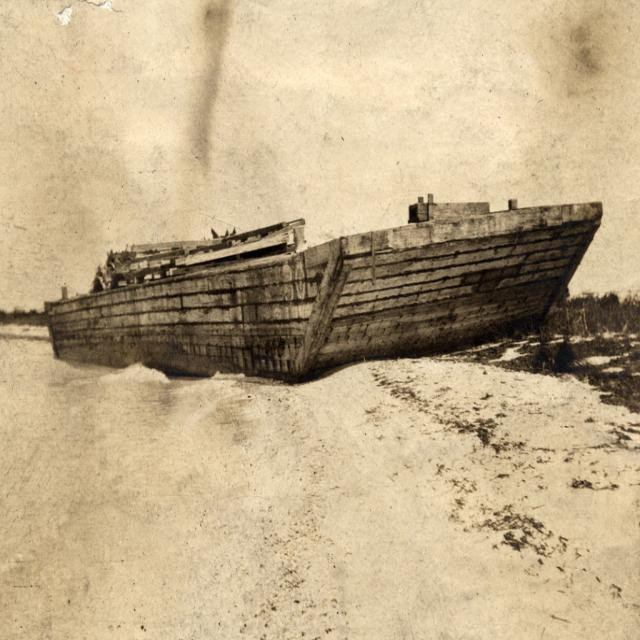Boat: (45, 172, 613, 361)
